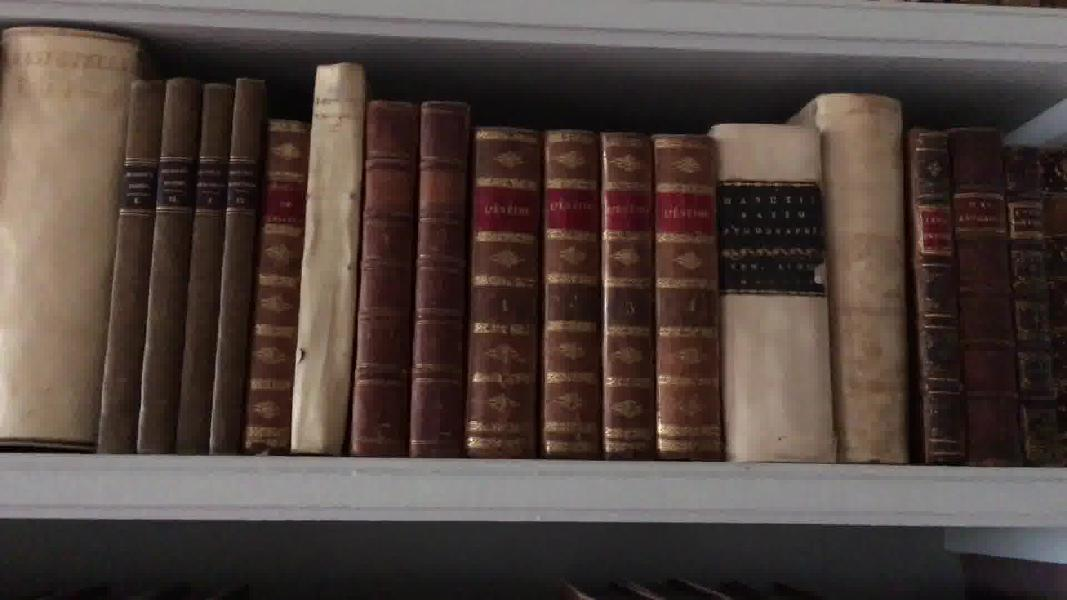Kk4-14: (2, 21, 138, 469)
Kk4-15_16: (93, 69, 198, 463)
Kk4-17_18: (170, 69, 263, 465)
Kk4-19: (239, 101, 319, 459)
Kk4-20: (282, 55, 369, 469)
Kk4-21_22: (342, 77, 473, 471)
Kk4-23_26: (459, 109, 736, 489)
Kk4-27: (700, 105, 851, 469)
Kk4-28: (802, 82, 925, 481)
Kk4-29: (894, 116, 974, 466)
Kk4-30: (943, 112, 1025, 469)
Kk4-31: (996, 135, 1059, 469)
